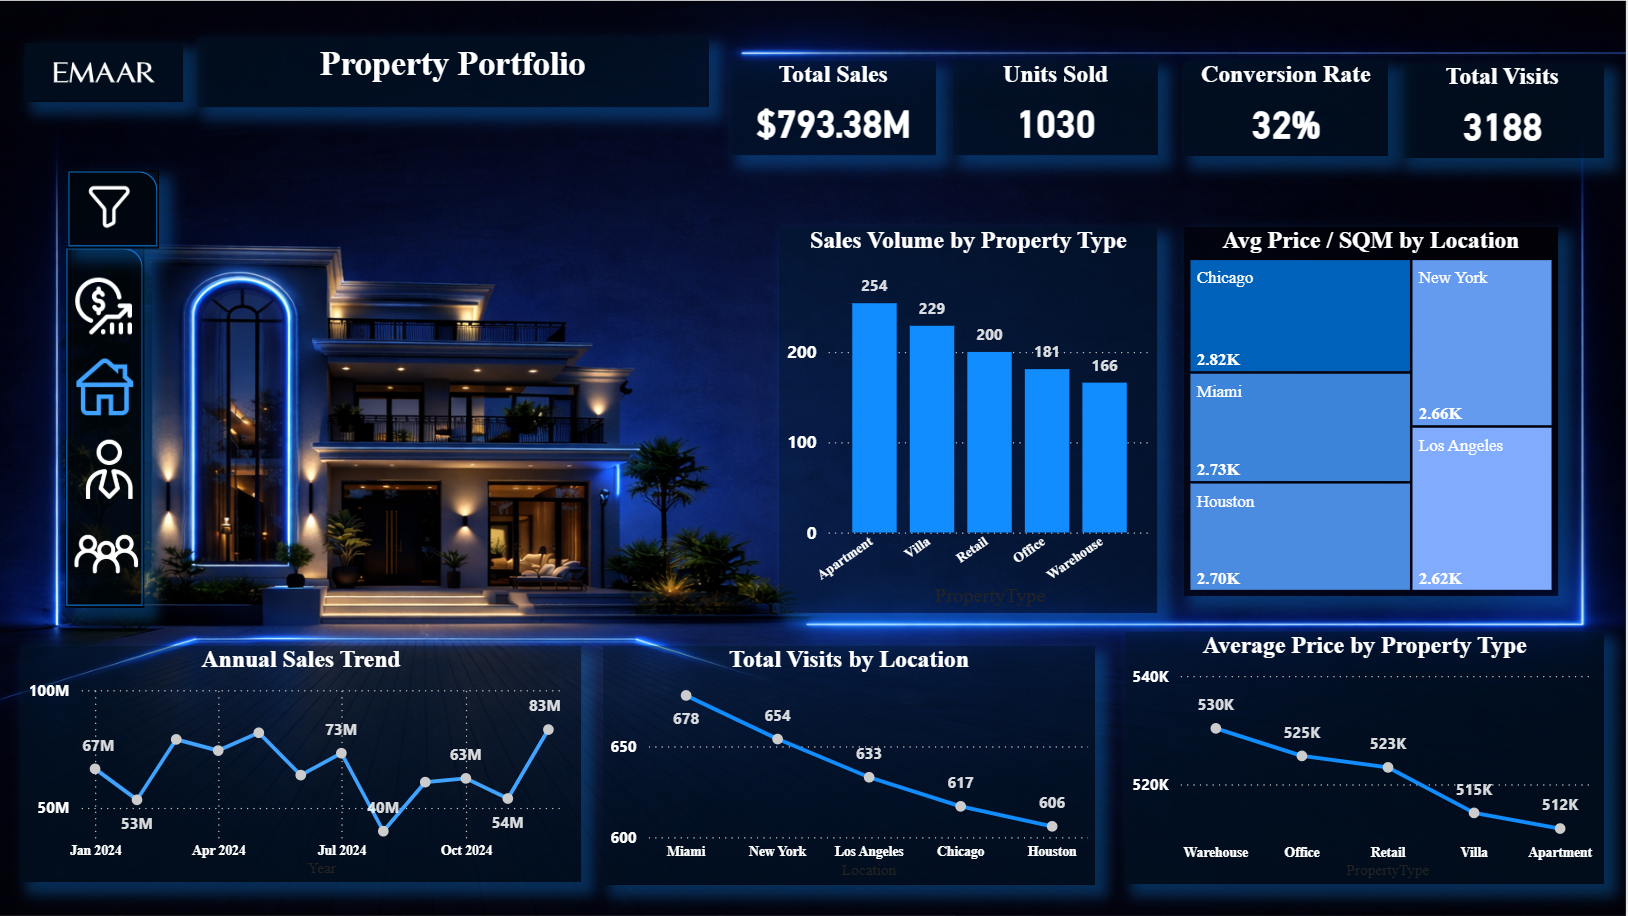

This screenshot's page, from the dashboard's own definition file:
{"tool":"powerbi","page":{"name":"Property Portfolio","canvas":[1280,720],"ordinal":1},"visuals":[{"type":"card","title":"Total Sales","fields":{"Values":["_All_Measures.Total Sales"]},"box":[575.1,47.9,161,74],"z":0},{"type":"card","title":"Units Sold","fields":{"Values":["_All_Measures.Units Sold"]},"box":[750.9,47.9,161,74],"z":1000},{"type":"card","title":"Total Visits","fields":{"Values":["_All_Measures.Total Visits"]},"box":[1102.3,49.3,160.7,74.8],"z":2000},{"type":"card","title":"Conversion Rate","fields":{"Values":["_All_Measures.Conversion Rate"]},"box":[932.1,47.7,160.7,74.8],"z":3000},{"type":"lineChart","title":"Annual Sales Trend","fields":{"Category":["Dim_Date.Date.Variation.Date Hierarchy.Year","Dim_Date.Date.Variation.Date Hierarchy.Month"],"Y":["Sum(Sales.SalePrice)"]},"box":[17.5,507.4,440.6,186.1],"z":4000},{"type":"clusteredColumnChart","title":"Sales Volume by Property Type","fields":{"Category":["Properties.PropertyType"],"Y":["_All_Measures.Units Sold"]},"box":[613.8,177.9,297.4,303.2],"z":5000},{"type":"lineChart","fields":{"Category":["Properties.Location"],"Y":["_All_Measures.Total Visits"]},"box":[475.6,507.4,386.5,187.7],"z":6000},{"type":"lineChart","title":"Average Price by Property Type","fields":{"Category":["Properties.PropertyType"],"Y":["_All_Measures.Average unit price"]},"box":[886,496.3,377,198.8],"z":7000},{"type":"treemap","title":"Avg Price / SQM by Location","fields":{"Group":["Properties.Location"],"Values":["_All_Measures.Avg\\ Price\\ per\\ SQM"]},"box":[931.6,177.9,294.5,290.1],"z":8000},{"type":"shape","box":[53,194.8,62.2,283.3],"z":9000},{"type":"image","box":[50.7,217.8,63.3,44.4],"z":10000},{"type":"image","box":[53,281.1,62.2,44.4],"z":11000},{"type":"image","box":[55.2,342.2,62.2,53.3],"z":12000},{"type":"image","box":[55.2,410,57.8,50],"z":13000},{"type":"shape","box":[54.4,133.3,72.2,61.1],"z":14000},{"type":"image","title":"فلتر الغلق","box":[56,140,62,44],"z":17000},{"type":"image","box":[20.2,33,124.8,45.9],"z":18000},{"type":"textbox","box":[156,29.2,402.4,55.4],"z":19000}]}

Visuals, with their boxes in screenshot pixels (x1, y1, x2, y2), scaled from the page's 1280x720 canvas onto the 1628x916 screenshot:
"Total Sales" card: x1=731 y1=61 x2=936 y2=155
"Units Sold" card: x1=955 y1=61 x2=1160 y2=155
"Total Visits" card: x1=1402 y1=63 x2=1606 y2=158
"Conversion Rate" card: x1=1186 y1=61 x2=1390 y2=156
"Annual Sales Trend" lineChart: x1=22 y1=646 x2=583 y2=882
"Sales Volume by Property Type" clusteredColumnChart: x1=781 y1=226 x2=1159 y2=612
lineChart - Properties.Location x _All_Measures.Total Visits: x1=605 y1=646 x2=1096 y2=884
"Average Price by Property Type" lineChart: x1=1127 y1=631 x2=1606 y2=884
"Avg Price / SQM by Location" treemap: x1=1185 y1=226 x2=1559 y2=595
shape: x1=67 y1=248 x2=147 y2=608
image: x1=64 y1=277 x2=145 y2=334
image: x1=67 y1=358 x2=147 y2=414
image: x1=70 y1=435 x2=149 y2=503
image: x1=70 y1=522 x2=144 y2=585
shape: x1=69 y1=170 x2=161 y2=247
"فلتر الغلق" image: x1=71 y1=178 x2=150 y2=234
image: x1=26 y1=42 x2=184 y2=100
textbox: x1=198 y1=37 x2=710 y2=108
